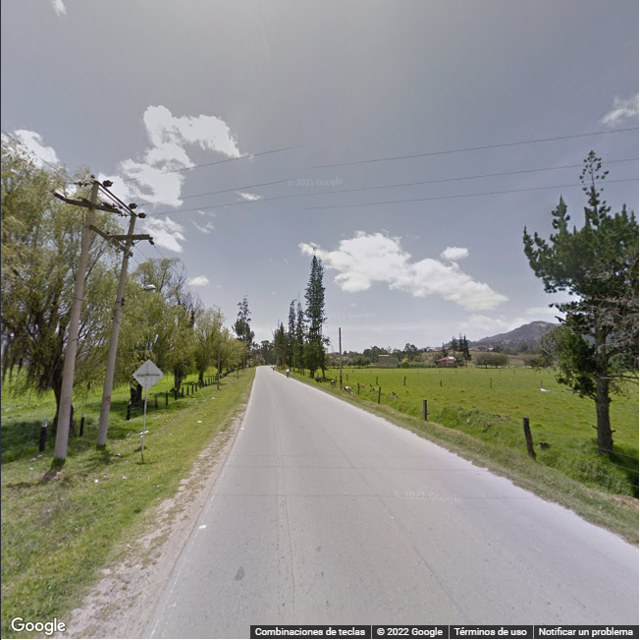D00: (353, 463, 470, 630), (279, 442, 295, 615), (272, 452, 285, 592)
